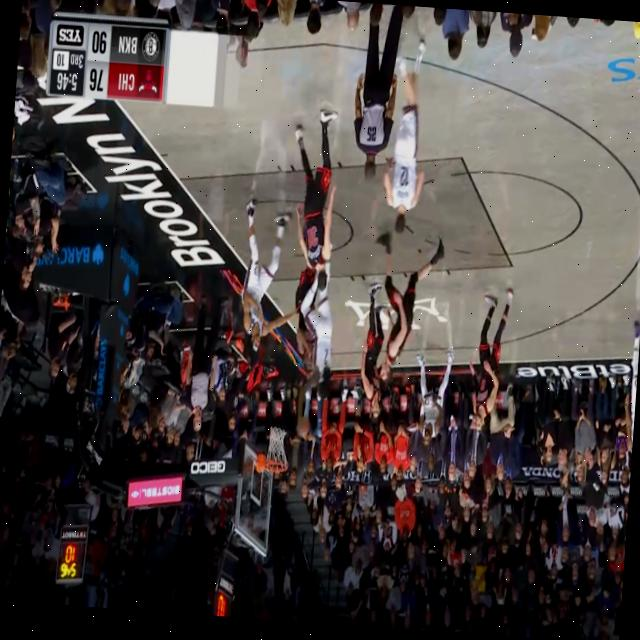foul: (280, 224, 354, 412)
no foul: (353, 262, 442, 429)
